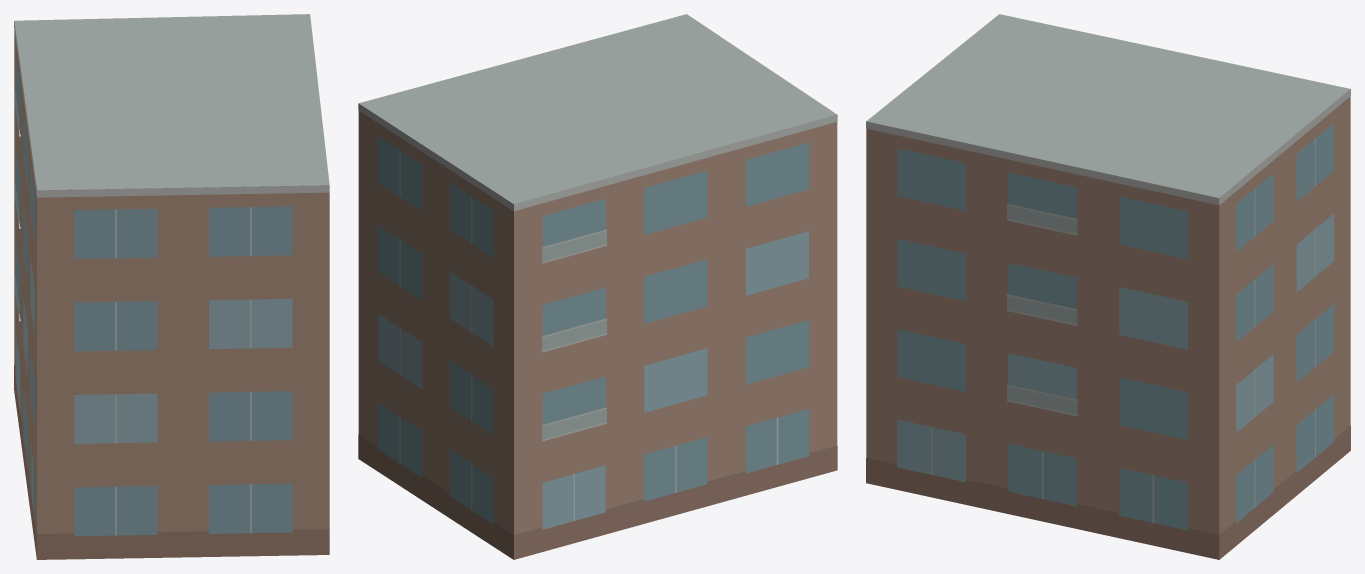
Rendered from survey-upis-32725429.glb.
The picture shows the model from 3 angles, left to right: view 1: azimuth 30°, elevation 25°; view 2: azimuth 150°, elevation 25°; view 3: azimuth 270°, elevation 25°; orthographic projection. The views are drawn at different scales.
Visible parts, largest first — view 1: survey-upis-32725429.tmp; view 2: survey-upis-32725429.tmp; view 3: survey-upis-32725429.tmp.
Boxes of the visible parts, <box> form: survey-upis-32725429.tmp: <box>14,14,329,559</box>; survey-upis-32725429.tmp: <box>358,14,837,559</box>; survey-upis-32725429.tmp: <box>866,14,1350,559</box>.
Size of the model in its own units: 13.44 by 12.3 by 14.94.
